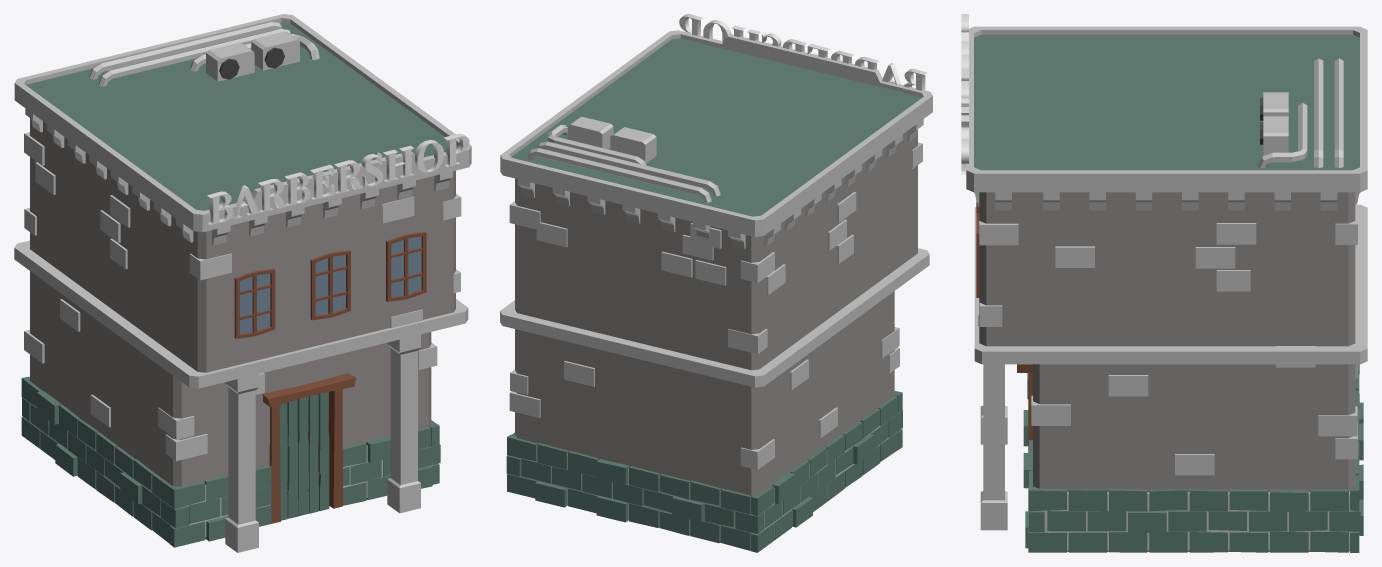
The model's file is Barbershop.fbx.
3 renders of one model, left to right at view 1: azimuth 30°, elevation 25°; view 2: azimuth 150°, elevation 25°; view 3: azimuth 270°, elevation 25°, orthographic. The views are drawn at different scales.
Parts seen in each view (by area): view 1: 2Story_Columns_Mat, Sign_Barbershop; view 2: 2Story_Columns_Mat, Sign_Barbershop; view 3: 2Story_Columns_Mat, Sign_Barbershop.
Part boxes in pixels (x1=…): 2Story_Columns_Mat: x1=14, y1=14, x2=471, y2=552; Sign_Barbershop: x1=207, y1=133, x2=469, y2=224; 2Story_Columns_Mat: x1=500, y1=30, x2=932, y2=552; Sign_Barbershop: x1=679, y1=14, x2=927, y2=90; 2Story_Columns_Mat: x1=966, y1=26, x2=1367, y2=552; Sign_Barbershop: x1=961, y1=14, x2=968, y2=174.
Size of the model in its own units: 216 by 277 by 252.
